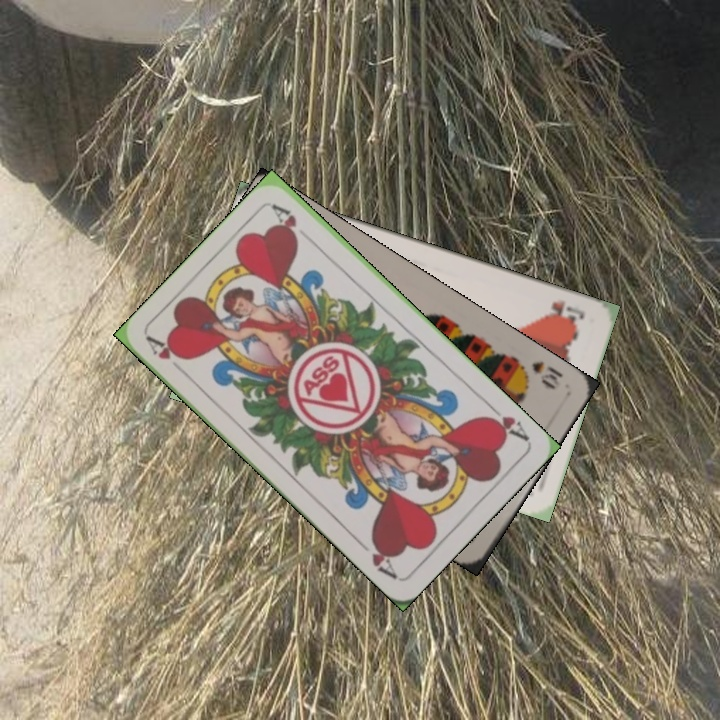HA: (480, 399, 532, 444), (143, 333, 191, 380)
HO: (541, 296, 588, 327)
S10: (513, 355, 566, 392)
